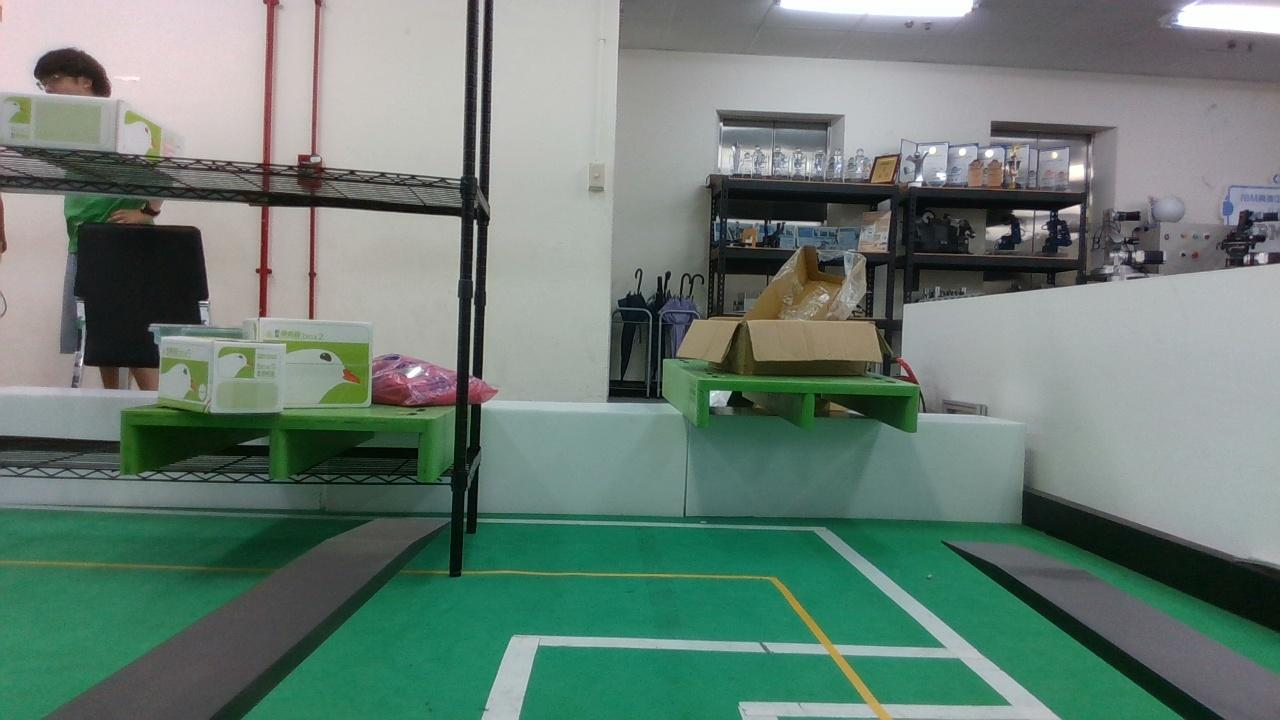Pallet: (117, 407, 436, 483), (697, 379, 920, 433)
